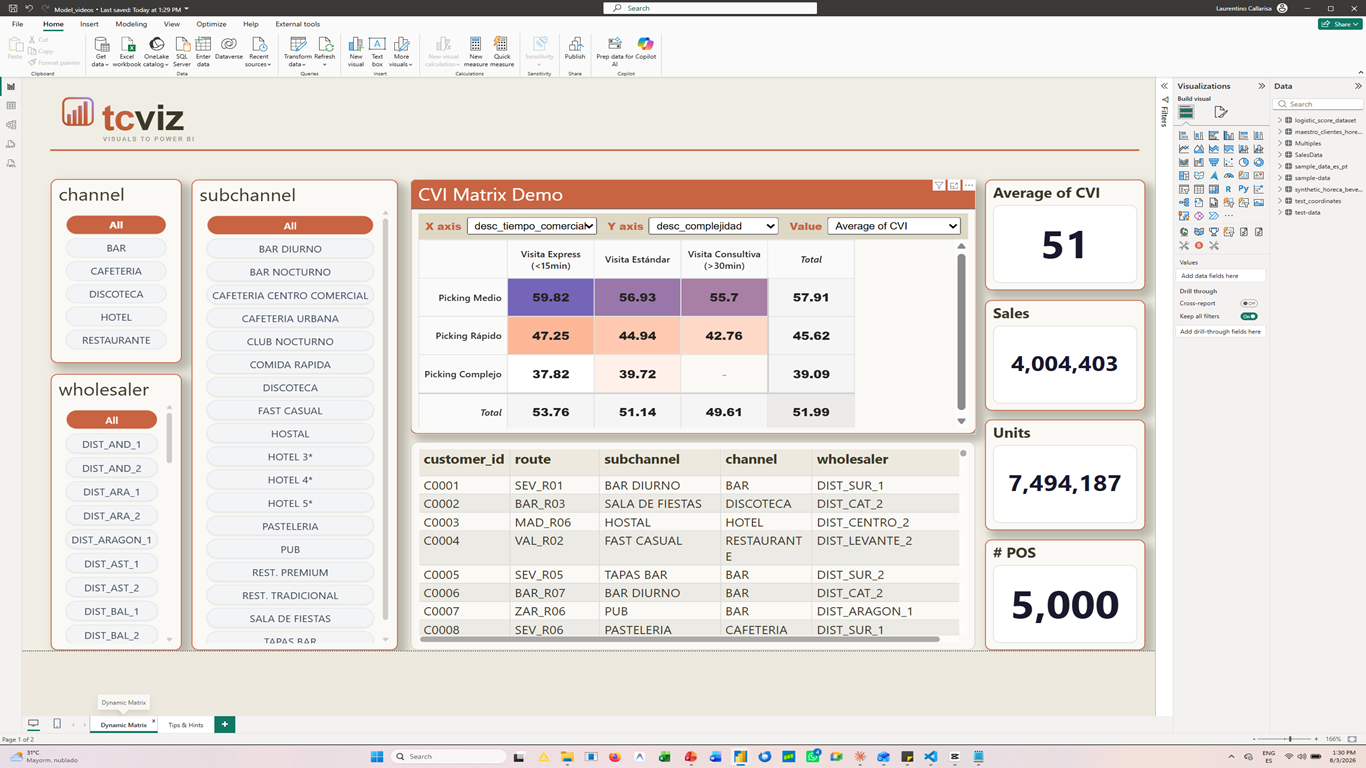

This screenshot's page, from the dashboard's own definition file:
{"tool":"powerbi","page":{"name":"Dynamic Matrix","canvas":[1280,720],"ordinal":0},"visuals":[{"type":"image","box":[32.1,11.8,185.5,80.6],"z":0},{"type":"shape","box":[32.1,68.2,1230.4,47.9],"z":1000},{"type":"dynamicMatrixHeatmap790912782D2A48CE80E680D64C793458_test","title":"CVI Matrix Demo","fields":{"dimensions":["logistic_score_dataset.desc_complejidad","logistic_score_dataset.desc_distancia","logistic_score_dataset.desc_esfuerzo_entrega","logistic_score_dataset.desc_frecuencia_comercial","logistic_score_dataset.desc_rechazo","logistic_score_dataset.desc_tiempo_comercial","logistic_score_dataset.desc_ventas","logistic_score_dataset.desc_volumen"],"measures":["Avg(logistic_score_dataset.CVI)","Sum(logistic_score_dataset.total_sales)","Divide(Sum(logistic_score_dataset.total_sales), ScopedEval(Sum(logistic_score_dataset.total_sales), []))","Sum(logistic_score_dataset.total_pedidos)","Sum(logistic_score_dataset.total_volume)"],"distinctFields":["logistic_score_dataset.customer_id"]},"box":[439,128.4,638.7,320.3],"z":2000},{"type":"chipSlicerPro","fields":{"category":["maestro_clientes_horeca_5000.channel"]},"box":[32.4,128.4,148.5,231.5],"z":2001},{"type":"chipSlicerFree","fields":{"category":["maestro_clientes_horeca_5000.wholesaler"]},"box":[32.4,372.8,148.5,346.9],"z":2002},{"type":"tableEx","fields":{"Values":["maestro_clientes_horeca_5000.customer_id","maestro_clientes_horeca_5000.route","maestro_clientes_horeca_5000.subchannel","maestro_clientes_horeca_5000.channel","maestro_clientes_horeca_5000.wholesaler"]},"box":[439,458.4,638.1,261.3],"z":2003},{"type":"simpleCardPro8E70690E06BD4DD98F31050F64B6E5C6","fields":{"measure":["Avg(logistic_score_dataset.CVI)"]},"box":[1088,128.9,180.5,139],"z":2004},{"type":"simpleCardPro8E70690E06BD4DD98F31050F64B6E5C6","title":"Sales","fields":{"measure":["Sum(logistic_score_dataset.total_sales)"]},"box":[1088,280.1,180.5,139],"z":2005},{"type":"simpleCardPro8E70690E06BD4DD98F31050F64B6E5C6","title":"Units","fields":{"measure":["Sum(logistic_score_dataset.total_units)"]},"box":[1088,430.5,180.5,139],"z":2006},{"type":"simpleCardPro8E70690E06BD4DD98F31050F64B6E5C6","title":"# POS","fields":{"measure":["Count(logistic_score_dataset.customer_id)"]},"box":[1088,580.9,180.5,139],"z":2007},{"type":"chipSlicerFree","fields":{"category":["maestro_clientes_horeca_5000.subchannel"]},"box":[191.9,129,232.8,590.7],"z":2008}]}

Visuals, with their boxes on the page's 1280x720 design canvas (x1, y1, x2, y2). These are canvas units, not pixel positions in the 1366x768 screenshot, which may show the page scaled, cropped or inside an application window:
image: (32, 12, 218, 92)
shape: (32, 68, 1262, 116)
"CVI Matrix Demo" dynamicMatrixHeatmap790912782D2A48CE80E680D64C793458_test: (439, 128, 1078, 449)
chipSlicerPro - maestro_clientes_horeca_5000.channel: (32, 128, 181, 360)
chipSlicerFree - maestro_clientes_horeca_5000.wholesaler: (32, 373, 181, 720)
tableEx - maestro_clientes_horeca_5000.customer_id x maestro_clientes_horeca_5000.route: (439, 458, 1077, 720)
simpleCardPro8E70690E06BD4DD98F31050F64B6E5C6 - Avg(logistic_score_dataset.CVI): (1088, 129, 1268, 268)
"Sales" simpleCardPro8E70690E06BD4DD98F31050F64B6E5C6: (1088, 280, 1268, 419)
"Units" simpleCardPro8E70690E06BD4DD98F31050F64B6E5C6: (1088, 430, 1268, 570)
"# POS" simpleCardPro8E70690E06BD4DD98F31050F64B6E5C6: (1088, 581, 1268, 720)
chipSlicerFree - maestro_clientes_horeca_5000.subchannel: (192, 129, 425, 720)
